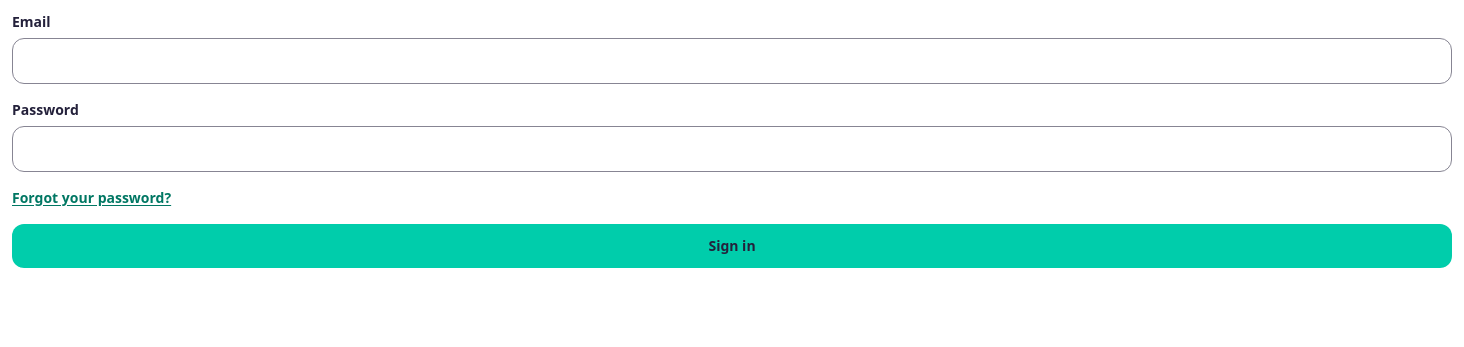
Test: LoginForm › shows a plain message when the password is wrong
This screenshot has width=1464, height=347.
Type "a@example.test" into the field labelled "Email". click: (732, 61)
box: [12,38,1452,84]
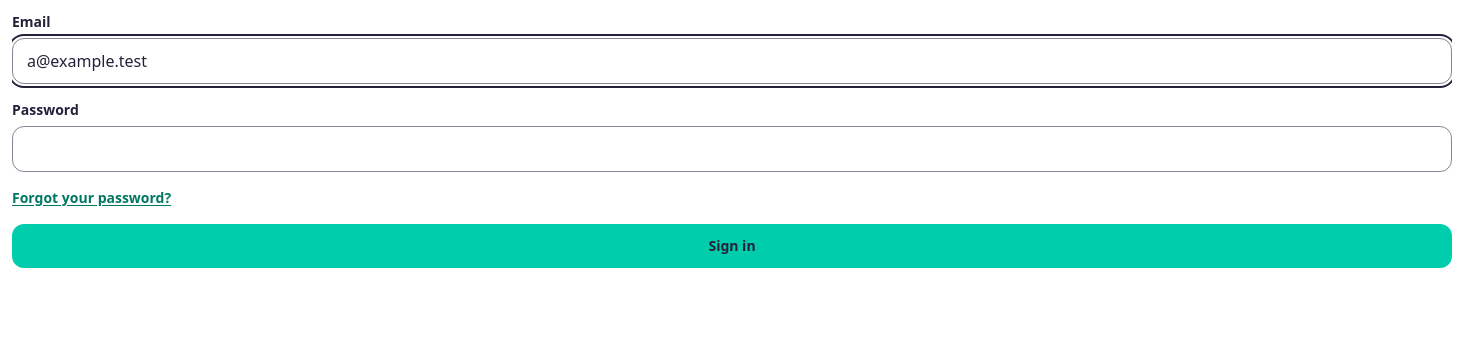
Type "nope" into the password field labelled "Password". click: (732, 149)
box: [12,126,1452,172]
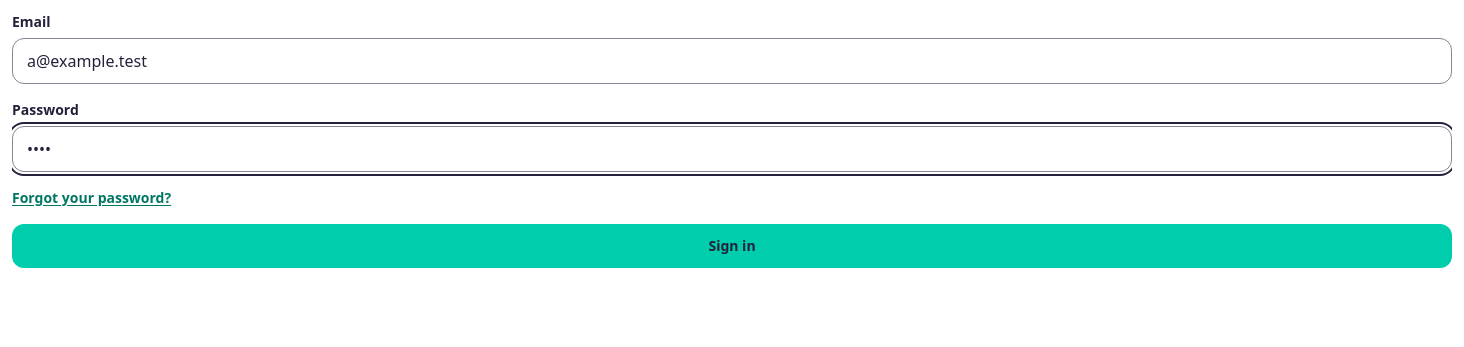
Click the button "Sign in". click: (732, 246)
box: [12,224,1452,268]
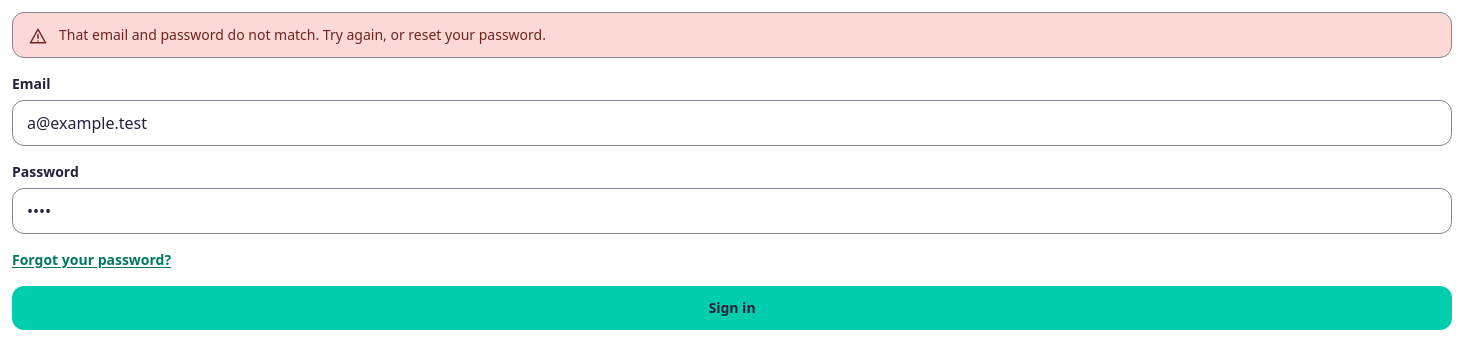
Now the message shows "email and password do not match", box [59,25,546,44]
